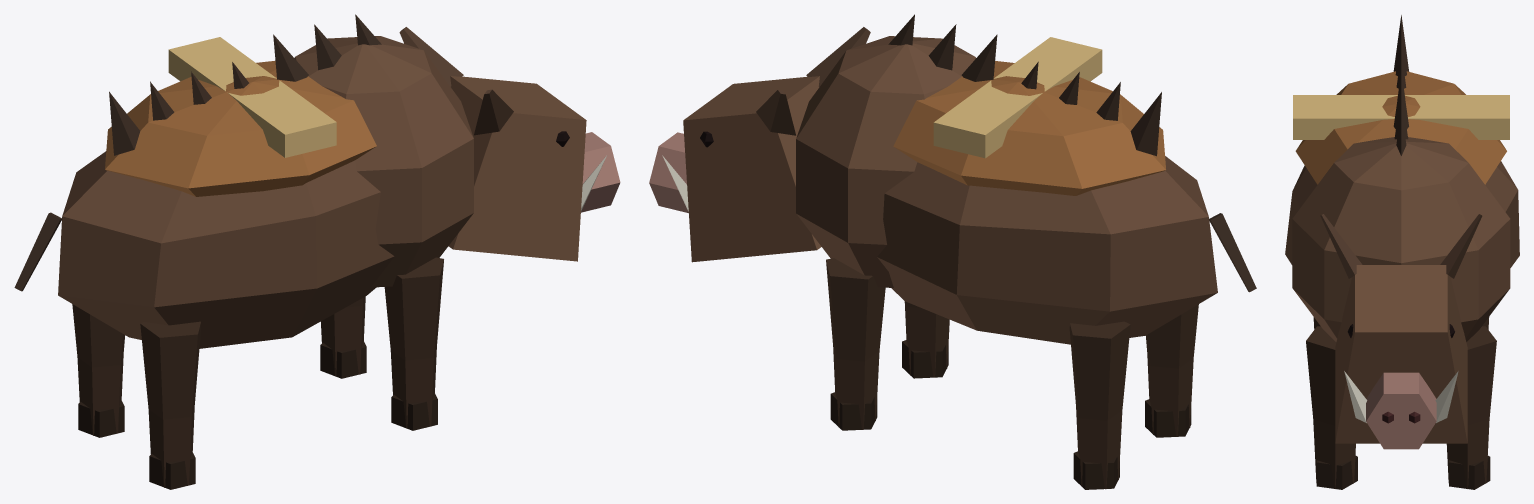
File: boar.glb
3 views of the same model, side by side, from view 1: azimuth 30°, elevation 25°; view 2: azimuth 150°, elevation 25°; view 3: azimuth 270°, elevation 25° (orthographic). The views are drawn at different scales.
Visible parts, largest first — view 1: body, pet_armor, head, leg_br, leg_fr, leg_bl, leg_fl, tail; view 2: body, pet_armor, head, leg_bl, leg_fl, leg_br, leg_fr, tail; view 3: body, head, pet_armor, leg_fr, leg_fl.
Part boxes in pixels (x1,y1,x2,y2): body: (58, 14, 473, 348); pet_armor: (105, 37, 376, 196); head: (399, 27, 620, 261); leg_br: (140, 321, 200, 489); leg_fr: (384, 257, 443, 430); leg_bl: (72, 304, 125, 437); leg_fl: (320, 296, 366, 378); tail: (14, 212, 62, 291); body: (796, 14, 1217, 344); pet_armor: (893, 37, 1165, 195); head: (649, 27, 870, 262); leg_bl: (1069, 321, 1130, 489); leg_fl: (826, 258, 885, 430); leg_br: (1145, 304, 1198, 437); leg_fr: (902, 301, 949, 378); tail: (1209, 213, 1256, 292); body: (1285, 15, 1519, 341); head: (1320, 214, 1482, 449); pet_armor: (1293, 71, 1509, 184); leg_fr: (1306, 326, 1357, 489); leg_fl: (1446, 326, 1496, 489).
Bounding box in the file's own units: 1.44 × 0.9 × 0.5324.
